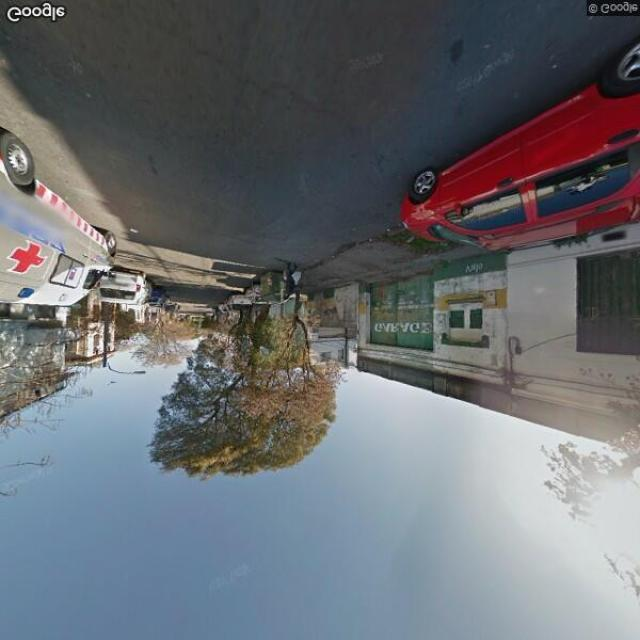garbage container: (252, 267, 302, 312)
